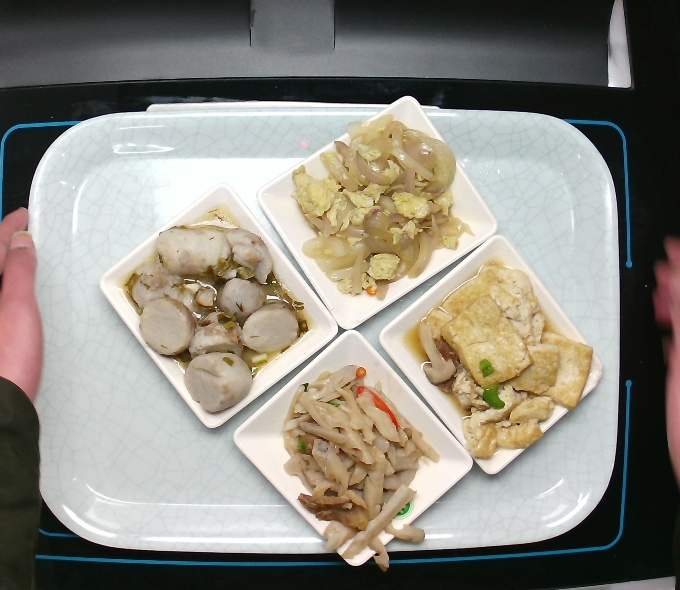wcq-JiaChangDouFu: (414, 257, 598, 462)
wcq-QingChaoOuPian: (276, 359, 445, 574)
wcq-YangCongChaoDan: (288, 113, 476, 305)
wcq-YangYu: (123, 206, 316, 416)
